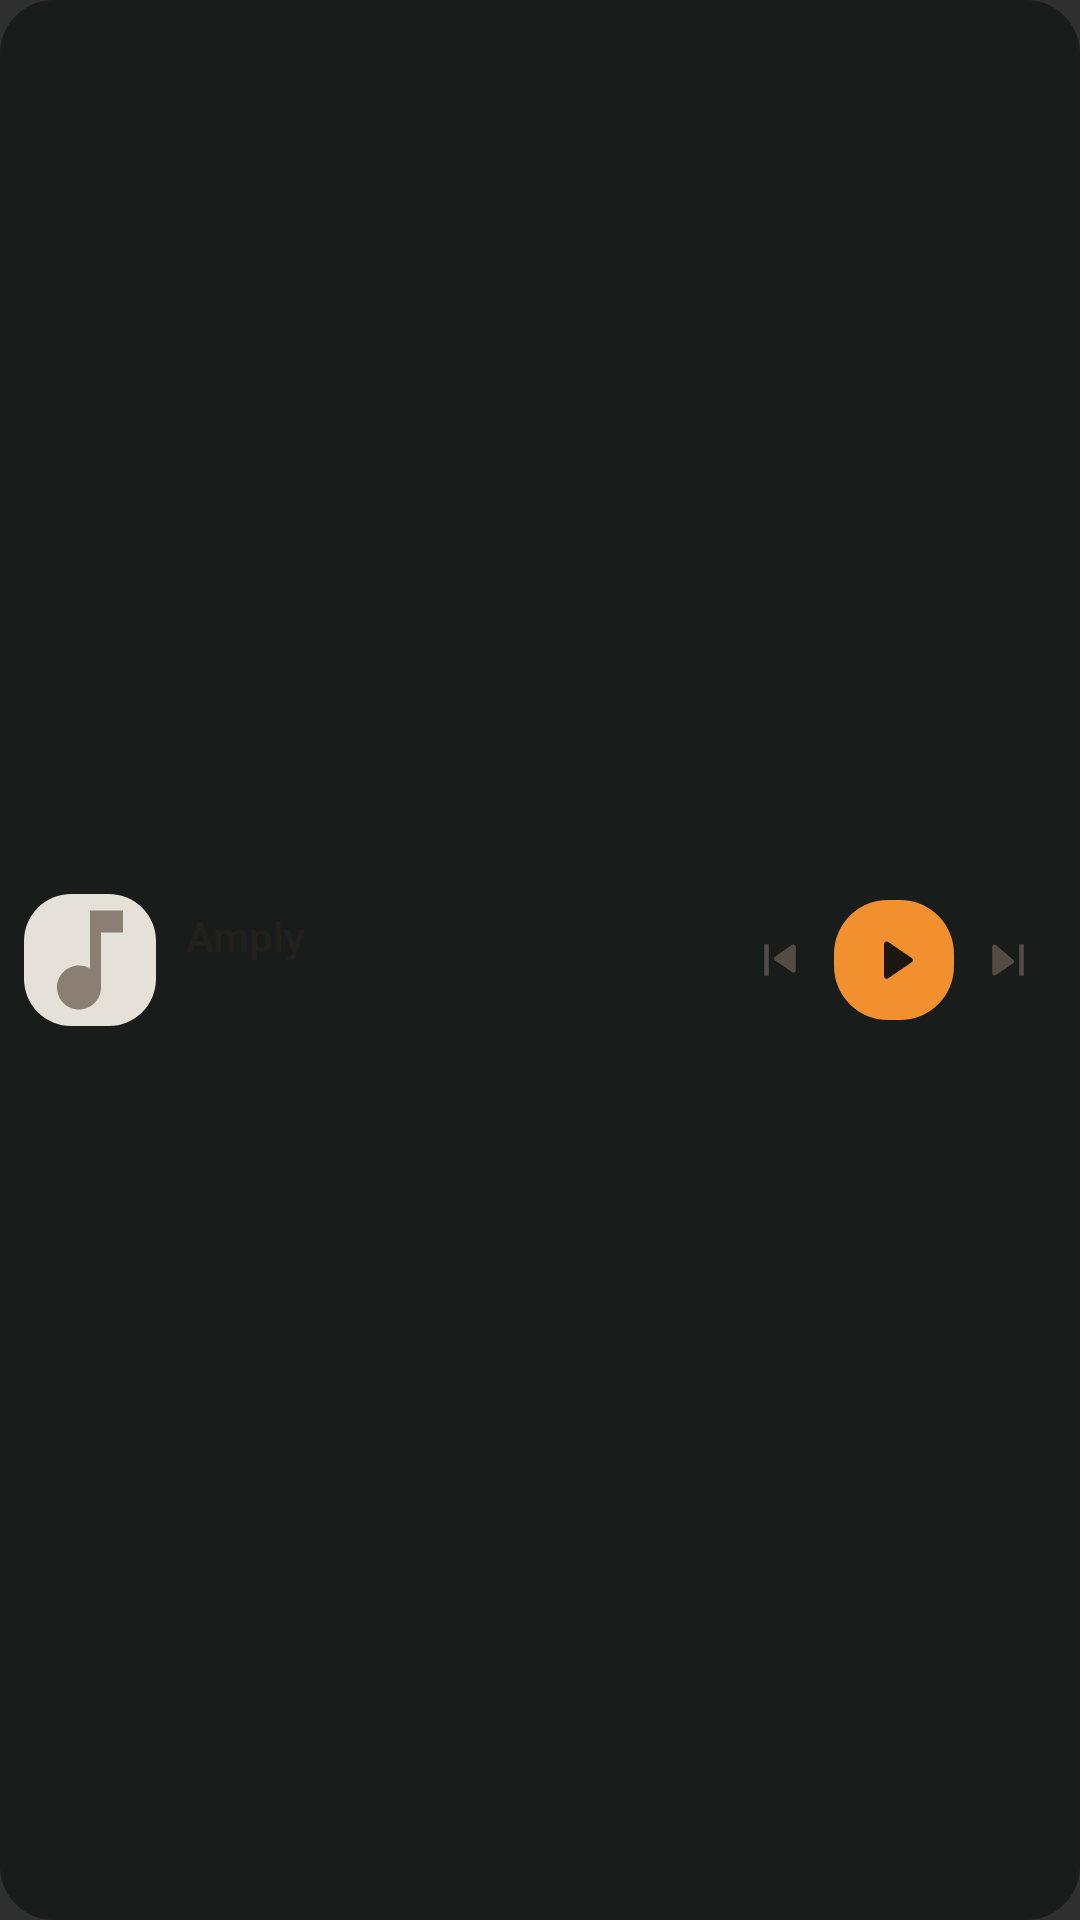

Locate icon controls on the screen. Image size 1080*1920, boxes as (x1, y1, x2, y2).
Next: (992, 944, 1024, 976)
Play or pause: (834, 900, 954, 1020)
Previous: (764, 944, 796, 976)
